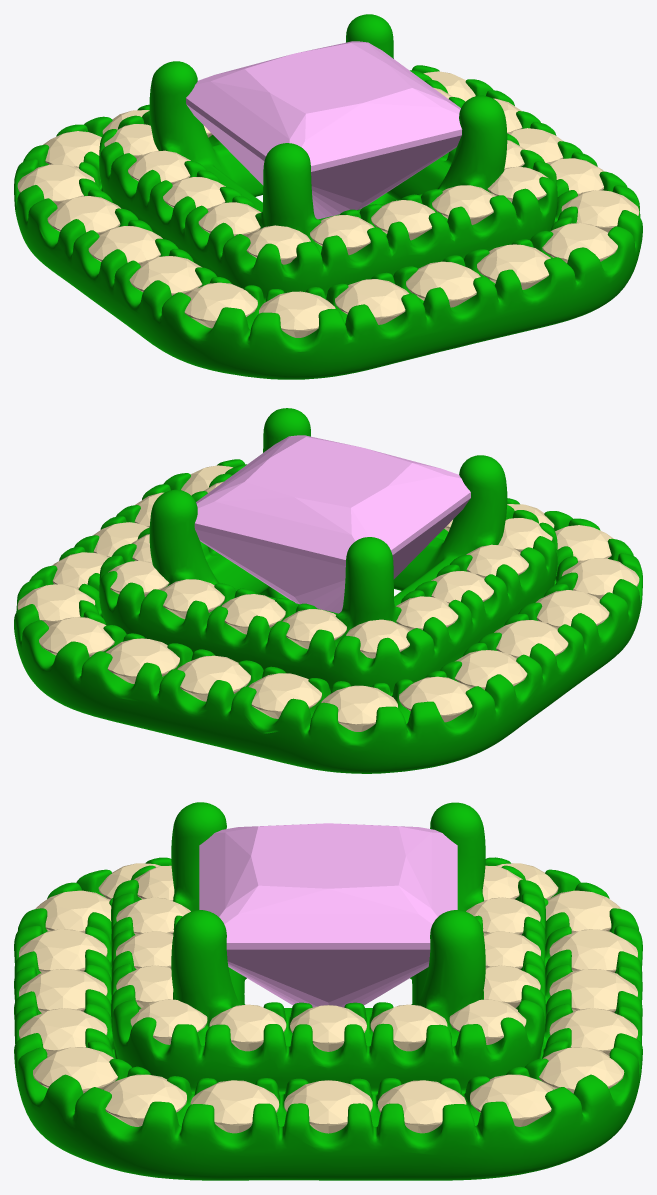
3 renders of one model, top to bottom at view 1: azimuth 30°, elevation 25°; view 2: azimuth 150°, elevation 25°; view 3: azimuth 270°, elevation 25°, orthographic. The views are drawn at different scales.
Visible parts, largest first — view 1: Metal01, Diamond_Princess, Diamond_Round.020, Diamond_Round.021, Diamond_Round.019, Diamond_Round.018, Diamond_Round.017, Diamond_Round.016, Diamond_Round.034, Diamond_Round.022, Diamond_Round.035, Diamond_Round.023 (+14 smaller); view 2: Metal01, Diamond_Princess, Diamond_Round.032, Diamond_Round.031, Diamond_Round.029, Diamond_Round.030, Diamond_Round.033, Diamond_Round.034, Diamond_Round.016, Diamond_Round.028, Diamond_Round.035, Diamond_Round.027 (+14 smaller); view 3: Metal01, Diamond_Princess, Diamond_Round.025, Diamond_Round.023, Diamond_Round.027, Diamond_Round.026, Diamond_Round.024, Diamond_Round.022, Diamond_Round.028, Diamond_Round.020, Diamond_Round.019, Diamond_Round.021 (+20 smaller).
Boxes of the visible parts, x1=… form: Metal01: x1=14, y1=14, x2=642, y2=379; Diamond_Princess: x1=186, y1=41, x2=462, y2=219; Diamond_Round.020: x1=406, y1=261, x2=480, y2=307; Diamond_Round.021: x1=477, y1=244, x2=550, y2=289; Diamond_Round.019: x1=335, y1=279, x2=409, y2=324; Diamond_Round.018: x1=259, y1=291, x2=335, y2=337; Diamond_Round.017: x1=184, y1=282, x2=257, y2=328; Diamond_Round.016: x1=129, y1=256, x2=202, y2=295; Diamond_Round.034: x1=47, y1=196, x2=120, y2=234; Diamond_Round.022: x1=542, y1=223, x2=617, y2=263; Diamond_Round.035: x1=88, y1=226, x2=162, y2=264; Diamond_Round.023: x1=561, y1=190, x2=639, y2=232; Metal01: x1=14, y1=408, x2=642, y2=773; Diamond_Princess: x1=194, y1=435, x2=470, y2=613; Diamond_Round.032: x1=321, y1=685, x2=397, y2=731; Diamond_Round.031: x1=248, y1=673, x2=321, y2=718; Diamond_Round.029: x1=106, y1=638, x2=179, y2=683; Diamond_Round.030: x1=177, y1=655, x2=250, y2=701; Diamond_Round.033: x1=399, y1=676, x2=472, y2=722; Diamond_Round.034: x1=454, y1=650, x2=527, y2=689; Diamond_Round.016: x1=535, y1=590, x2=609, y2=628; Diamond_Round.028: x1=39, y1=617, x2=114, y2=657; Diamond_Round.035: x1=494, y1=620, x2=568, y2=658; Diamond_Round.027: x1=17, y1=584, x2=95, y2=626; Metal01: x1=14, y1=802, x2=642, y2=1180; Diamond_Princess: x1=199, y1=823, x2=457, y2=1007; Diamond_Round.025: x1=284, y1=1080, x2=372, y2=1133; Diamond_Round.023: x1=103, y1=1074, x2=186, y2=1126; Diamond_Round.027: x1=470, y1=1074, x2=553, y2=1126; Diamond_Round.026: x1=377, y1=1080, x2=466, y2=1133; Diamond_Round.024: x1=190, y1=1080, x2=279, y2=1133; Diamond_Round.022: x1=33, y1=1047, x2=117, y2=1093; Diamond_Round.028: x1=539, y1=1047, x2=624, y2=1093; Diamond_Round.020: x1=19, y1=969, x2=107, y2=1012; Diamond_Round.019: x1=19, y1=929, x2=107, y2=972; Diamond_Round.021: x1=19, y1=1008, x2=107, y2=1055.
Size of the model in its own units: 10.64 by 5.85 by 10.65.
